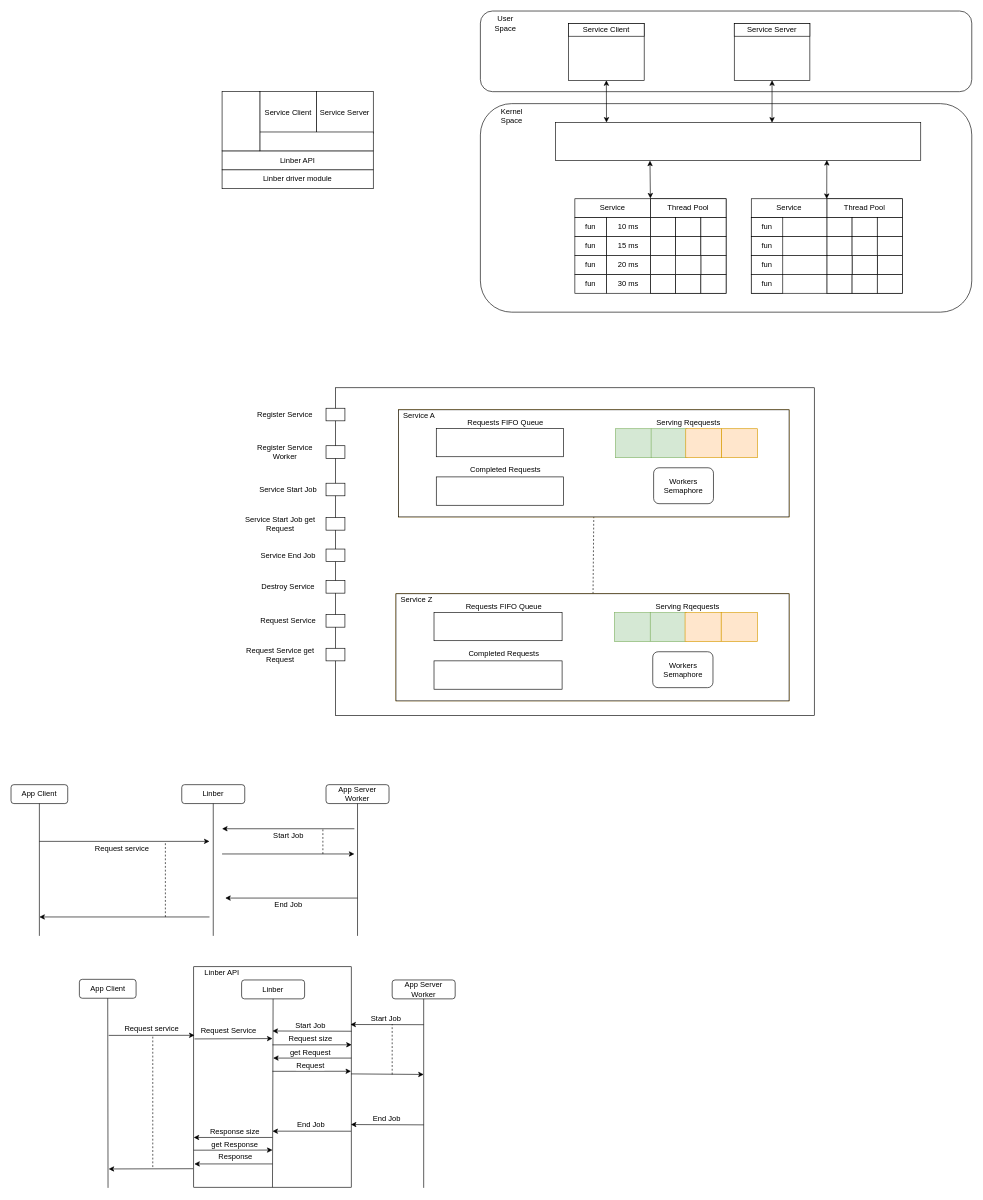
The diagram is 983 pixels wide and 1200 high, and some of its shapes have lost their labels. The shapes that lost their labels are listed below. From the top down, each one's centre as x and y in pixels, then its label:
At (x=240, y=121): "Linber Monitor".
At (x=316, y=141): "Service Marshalling".
At (x=738, y=141): "Linder driver module".
